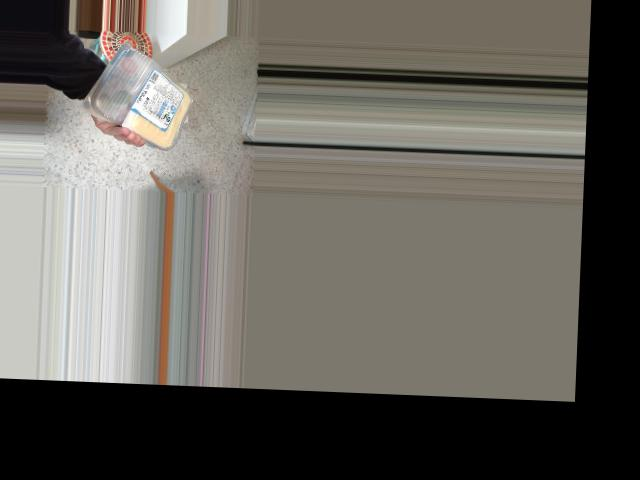cheese: (107, 37, 198, 144)
